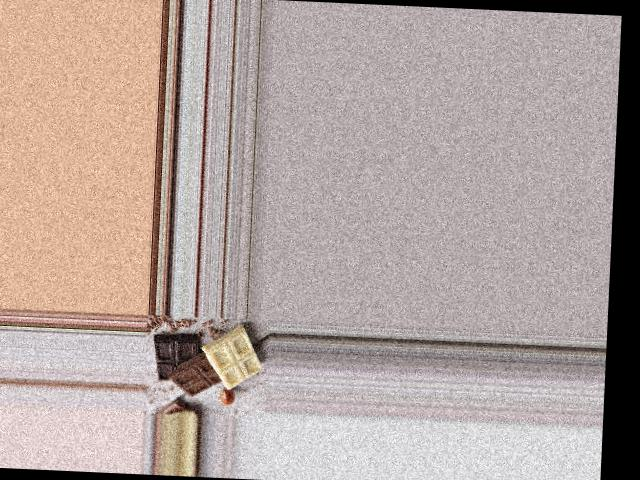chocolate: (146, 326, 263, 399)
